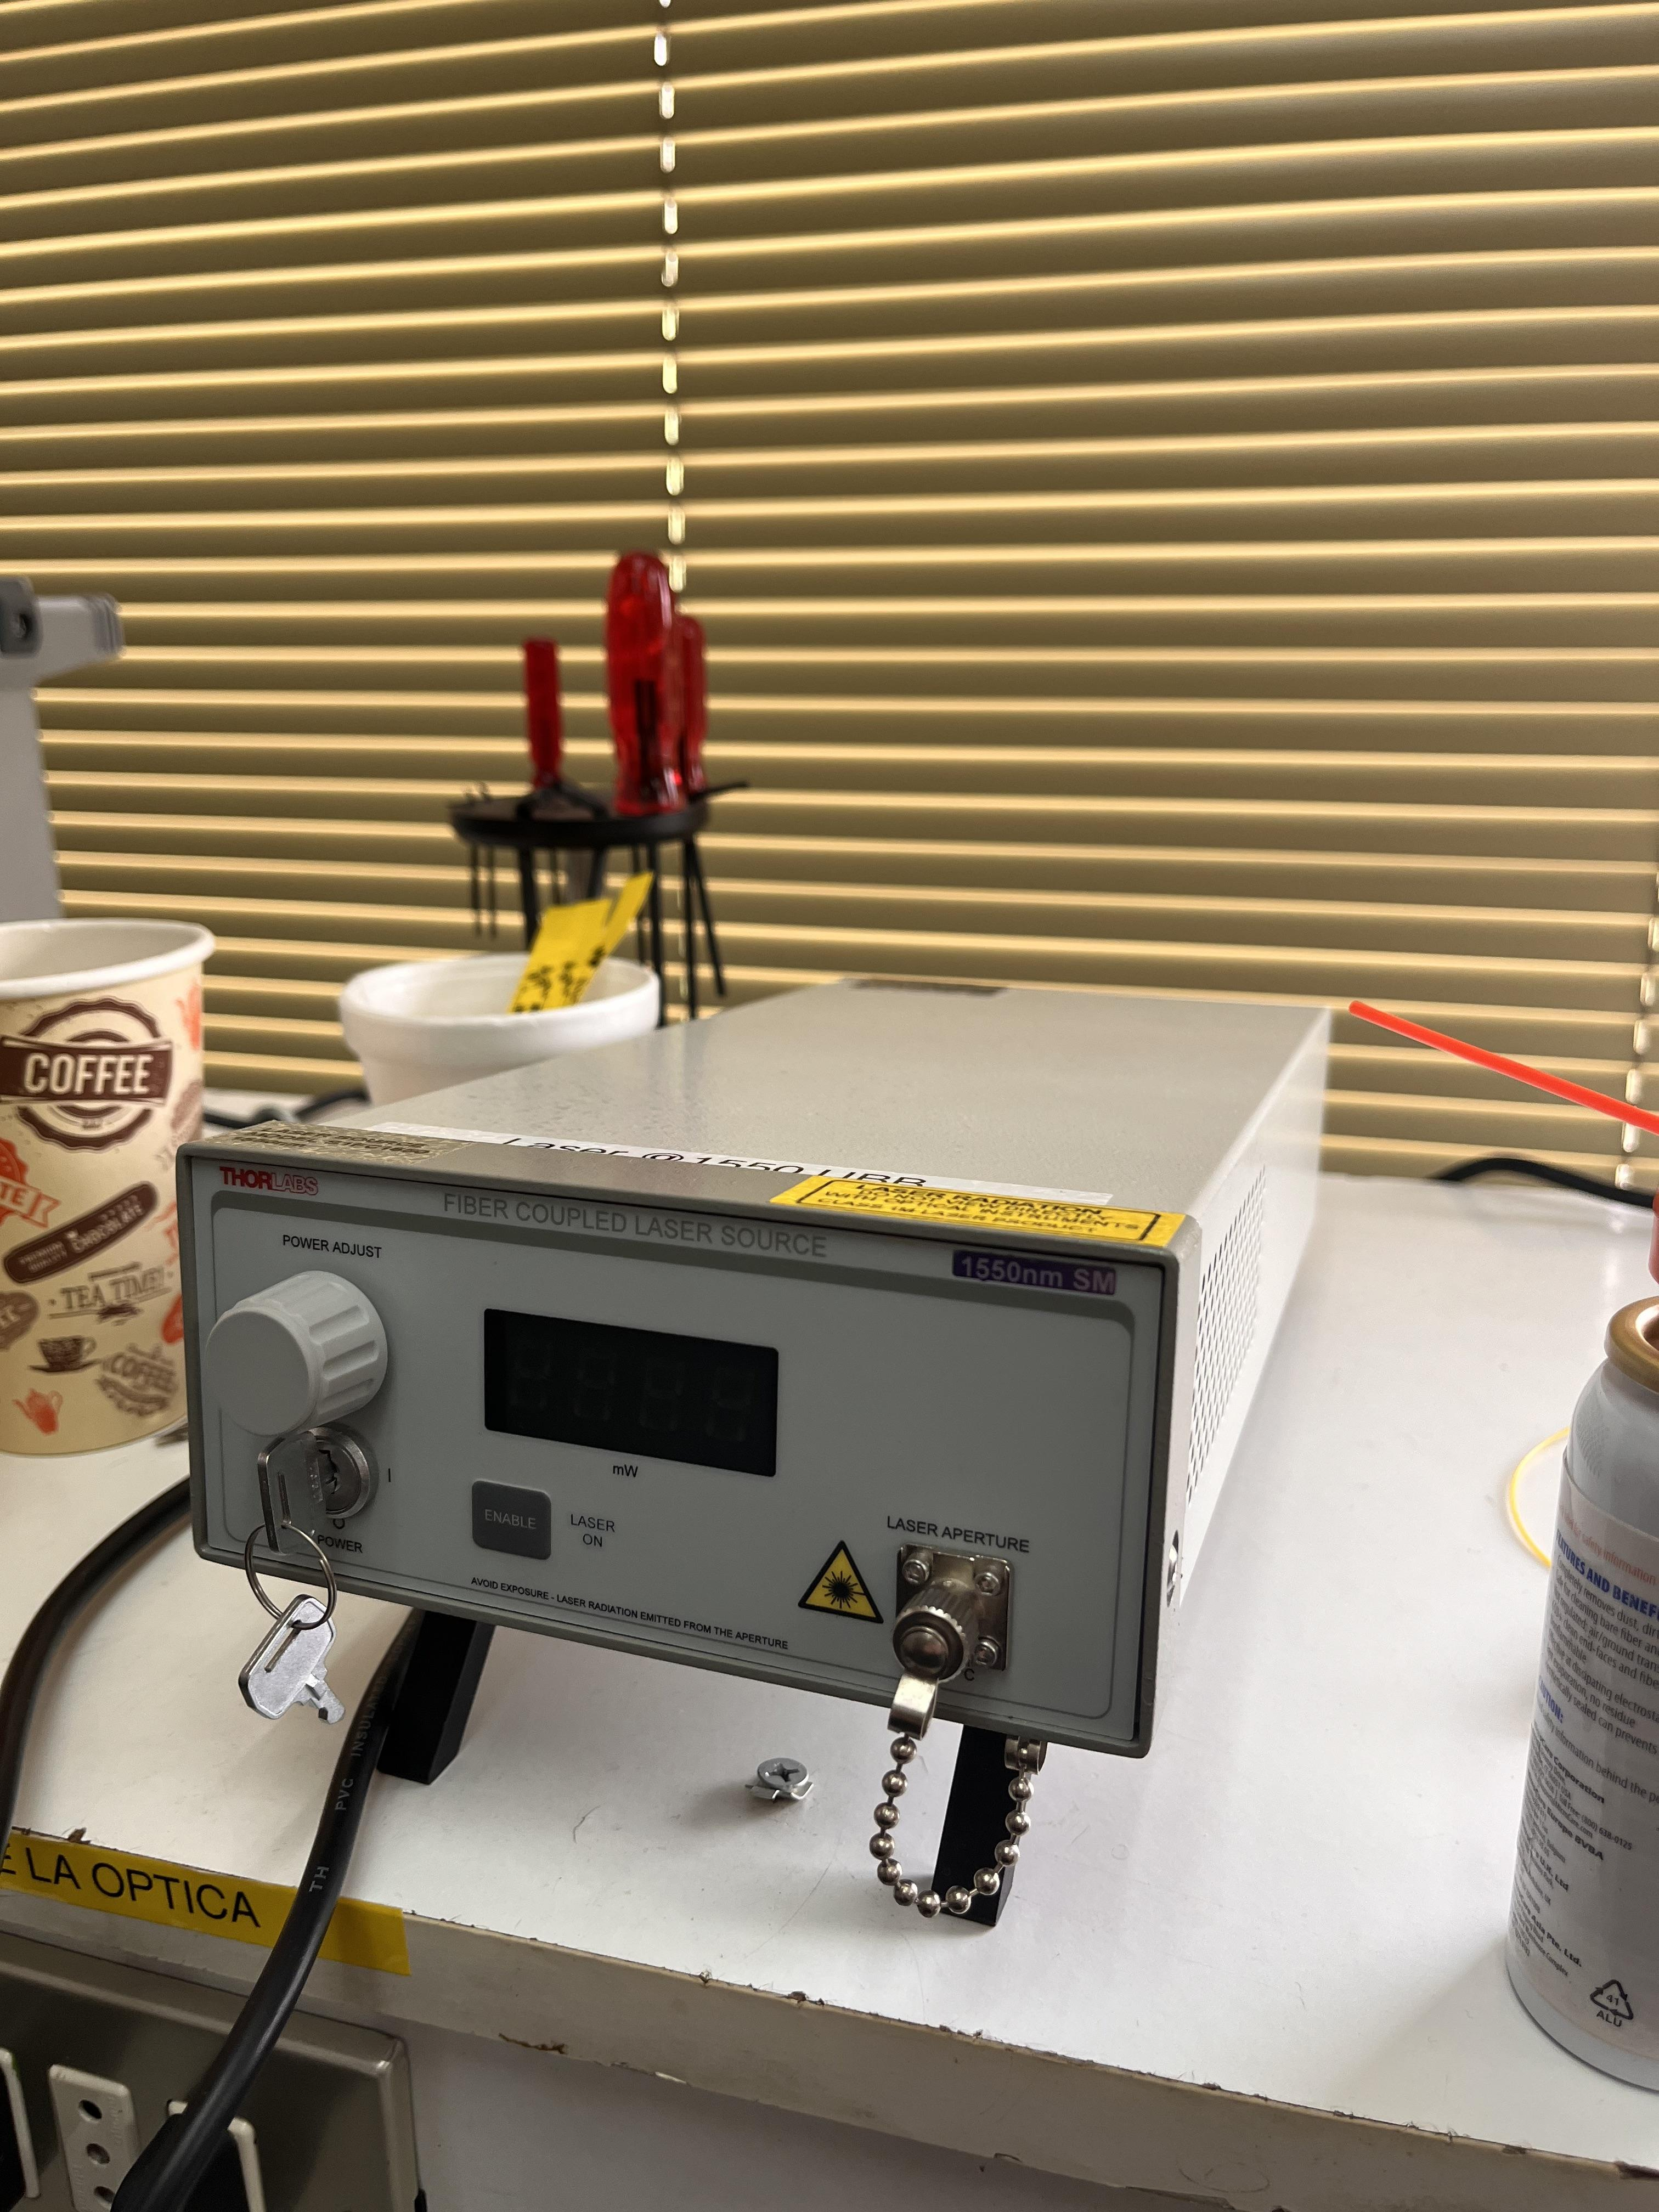laser: (162, 963, 1347, 1945)
